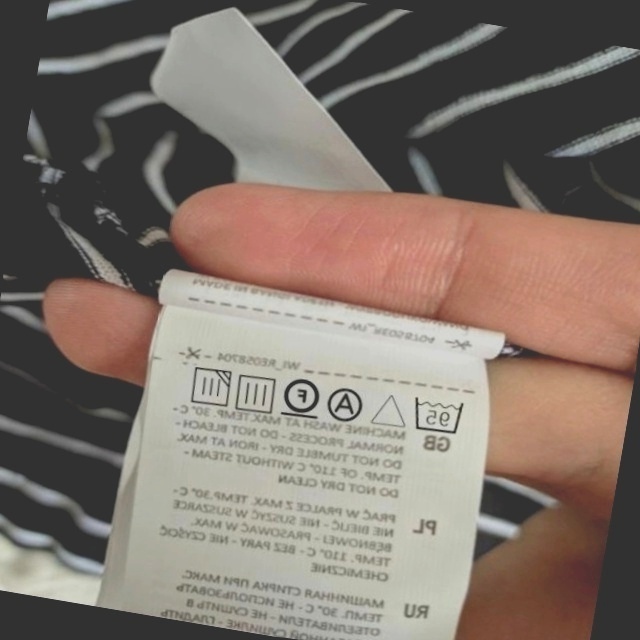95C: (407, 391, 468, 439)
bleach: (369, 386, 411, 433)
drip_dry: (231, 368, 281, 417)
drip_dry_in_shade: (183, 361, 234, 412)
dry_clean: (324, 383, 368, 426)
dry_clean_petrol_only: (278, 371, 324, 422)
